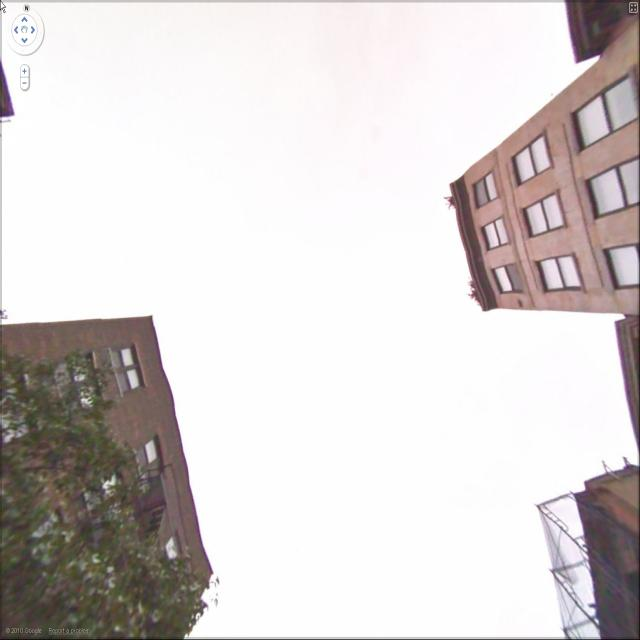b_1: (442, 28, 635, 324)
b_2: (2, 316, 234, 640)
